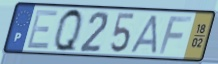2: (78, 10, 111, 54)
5: (108, 11, 137, 55)
A: (129, 14, 160, 56)
E: (24, 9, 60, 51)
F: (157, 16, 194, 56)
Q: (52, 6, 84, 55)
